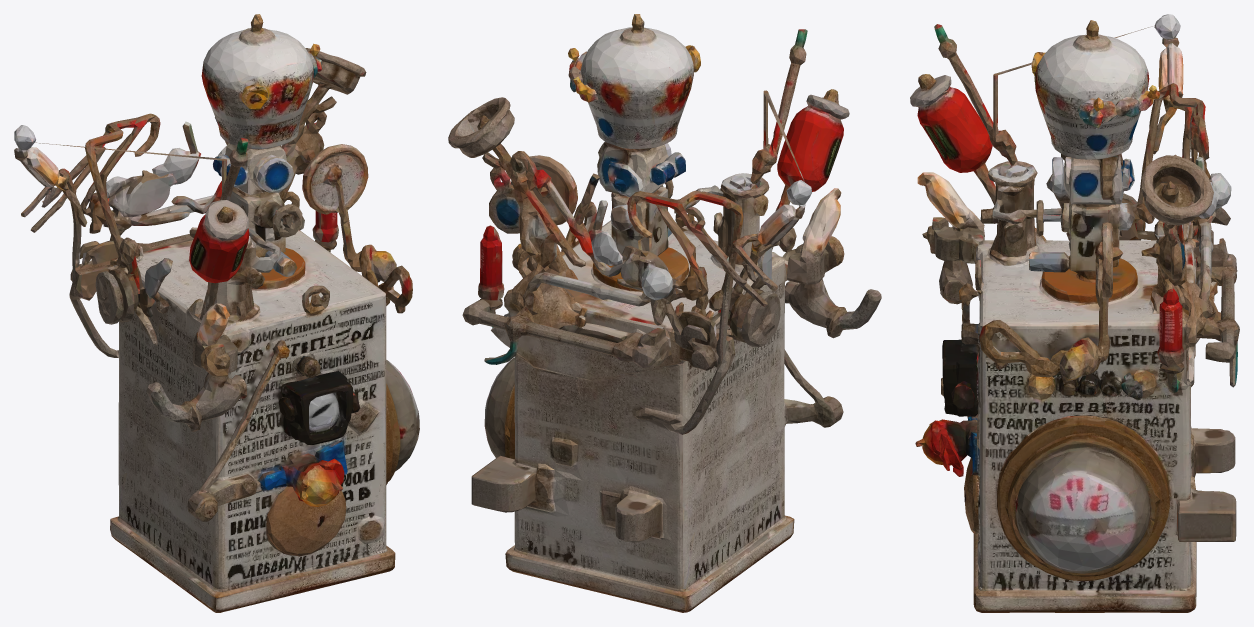
File: chest (298).glb
3 views of the same model, side by side, from view 1: azimuth 30°, elevation 25°; view 2: azimuth 150°, elevation 25°; view 3: azimuth 270°, elevation 25° (orthographic). The views are drawn at different scales.
Parts seen in each view (by area): view 1: Hy21_Mesh.obj; view 2: Hy21_Mesh.obj; view 3: Hy21_Mesh.obj.
Boxes of the visible parts, x1,y1,x2,y2 form: Hy21_Mesh.obj: (14, 14, 419, 612); Hy21_Mesh.obj: (448, 14, 881, 612); Hy21_Mesh.obj: (910, 14, 1239, 612).
Size of the model in its own units: 1.35 by 1.96 by 1.06.
1 material, 1 textured.
